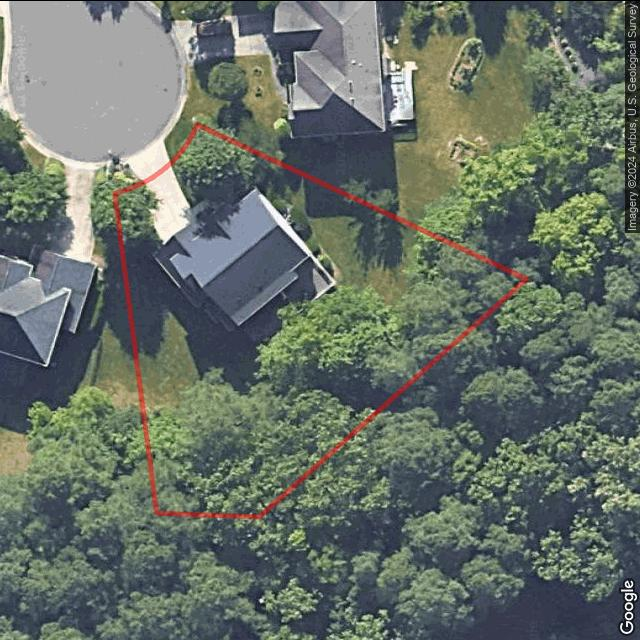Driveway: (136, 162, 197, 244)
Extra-Driveway: (118, 132, 171, 186)
Extra-Lawn: (163, 115, 197, 162), (106, 164, 136, 192)
House: (154, 187, 311, 331)
Lawn: (114, 123, 526, 516)
Other: (145, 236, 525, 515), (259, 186, 342, 282), (242, 255, 334, 341)
Sidewalk: (191, 197, 222, 213)
